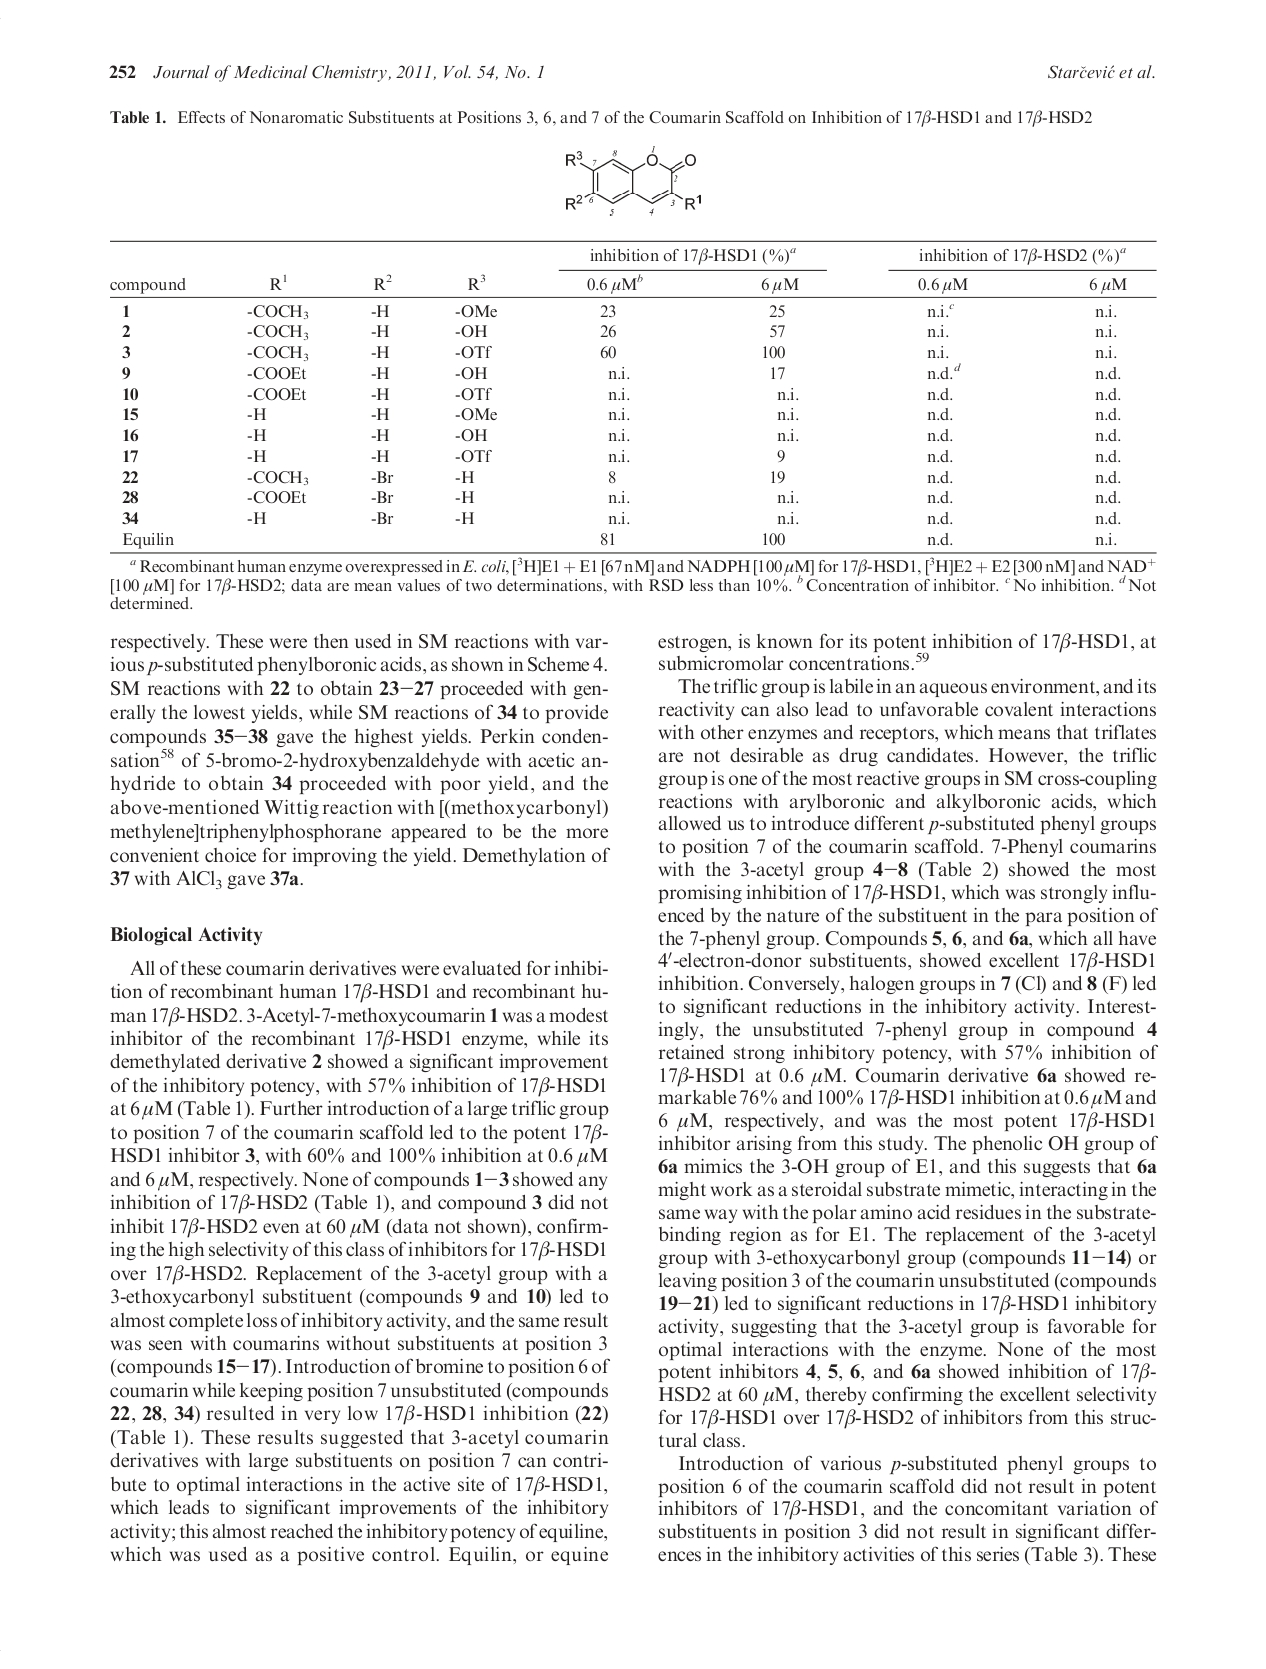exist_molecular: (559, 144, 707, 219)
